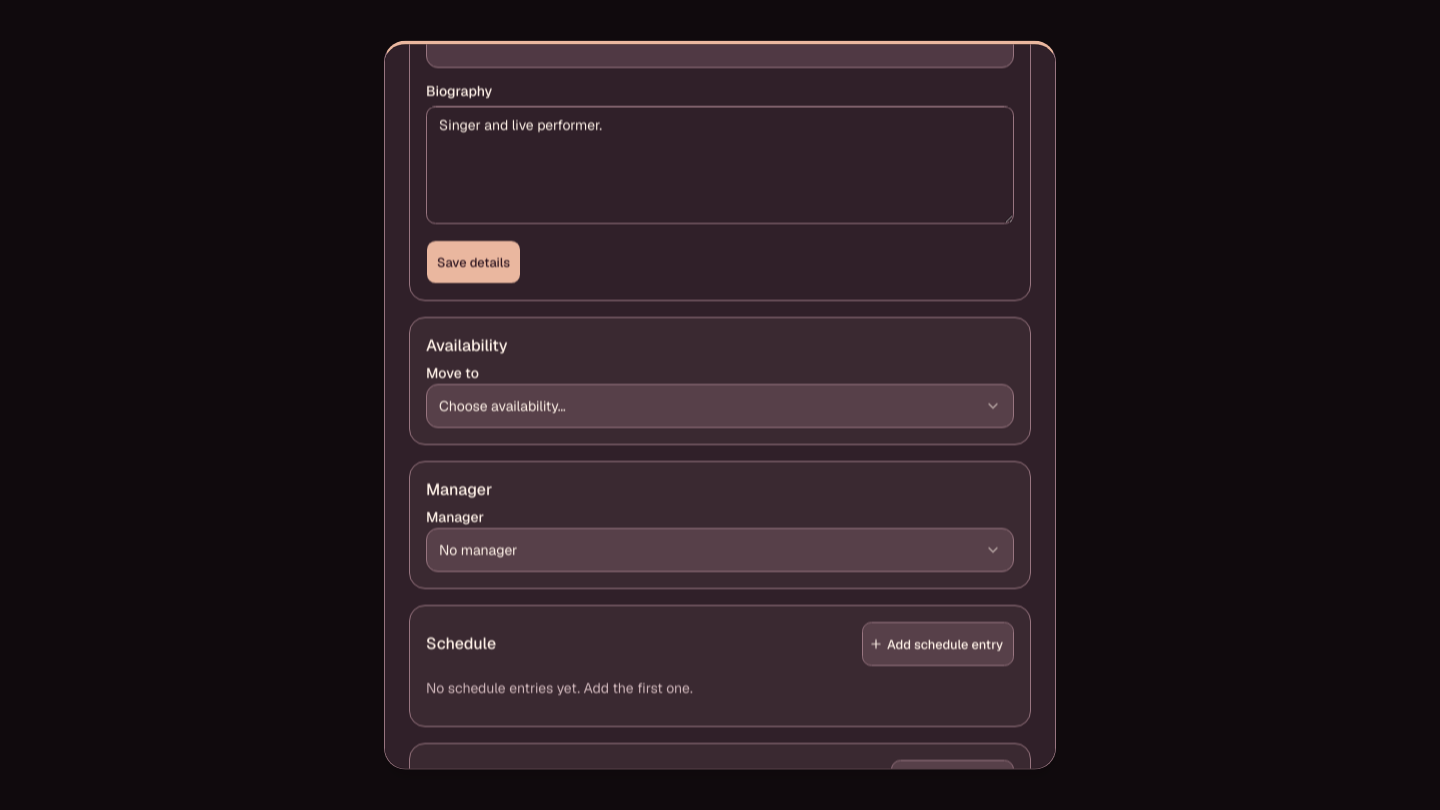
TalentDetailDialog › availability › shows the invalid-transition error
(page scrolled)
Click the dropdown named "Move to" at (502, 407), box [426,385,1014,429]
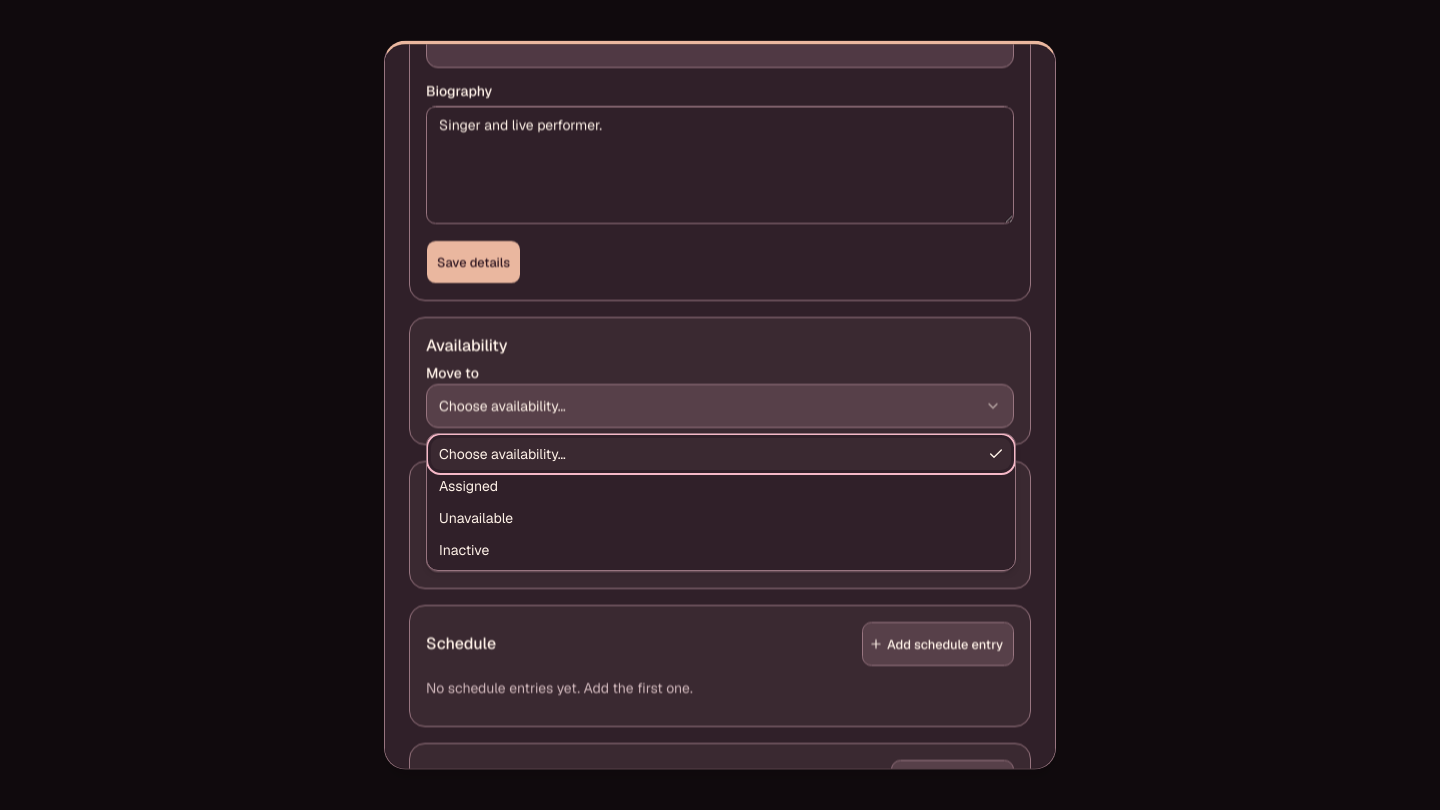
Click the option "Assigned" at (468, 486), box [439,477,498,495]
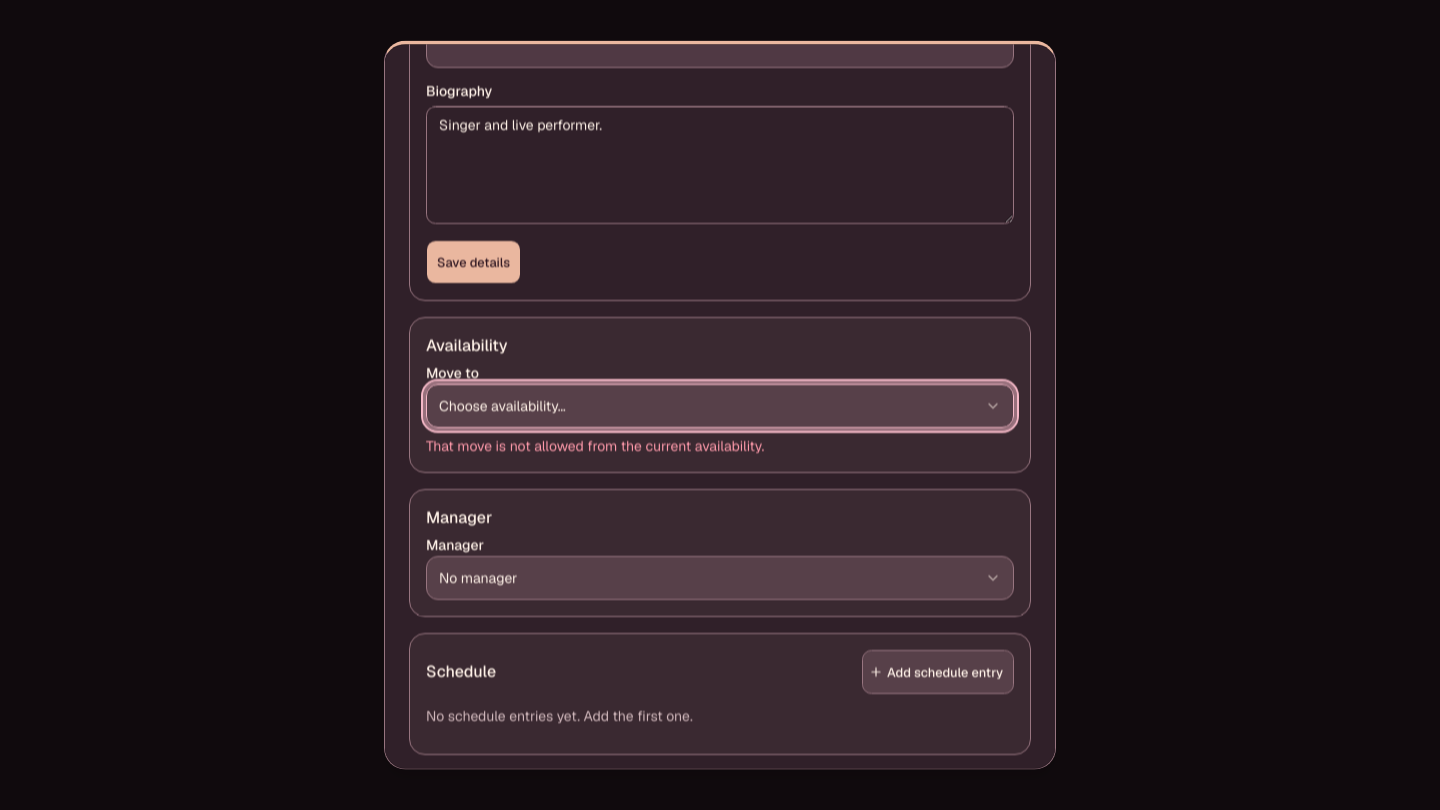
Now the text "That move is not allowed from the current availability." is shown, box [426,438,764,456]
